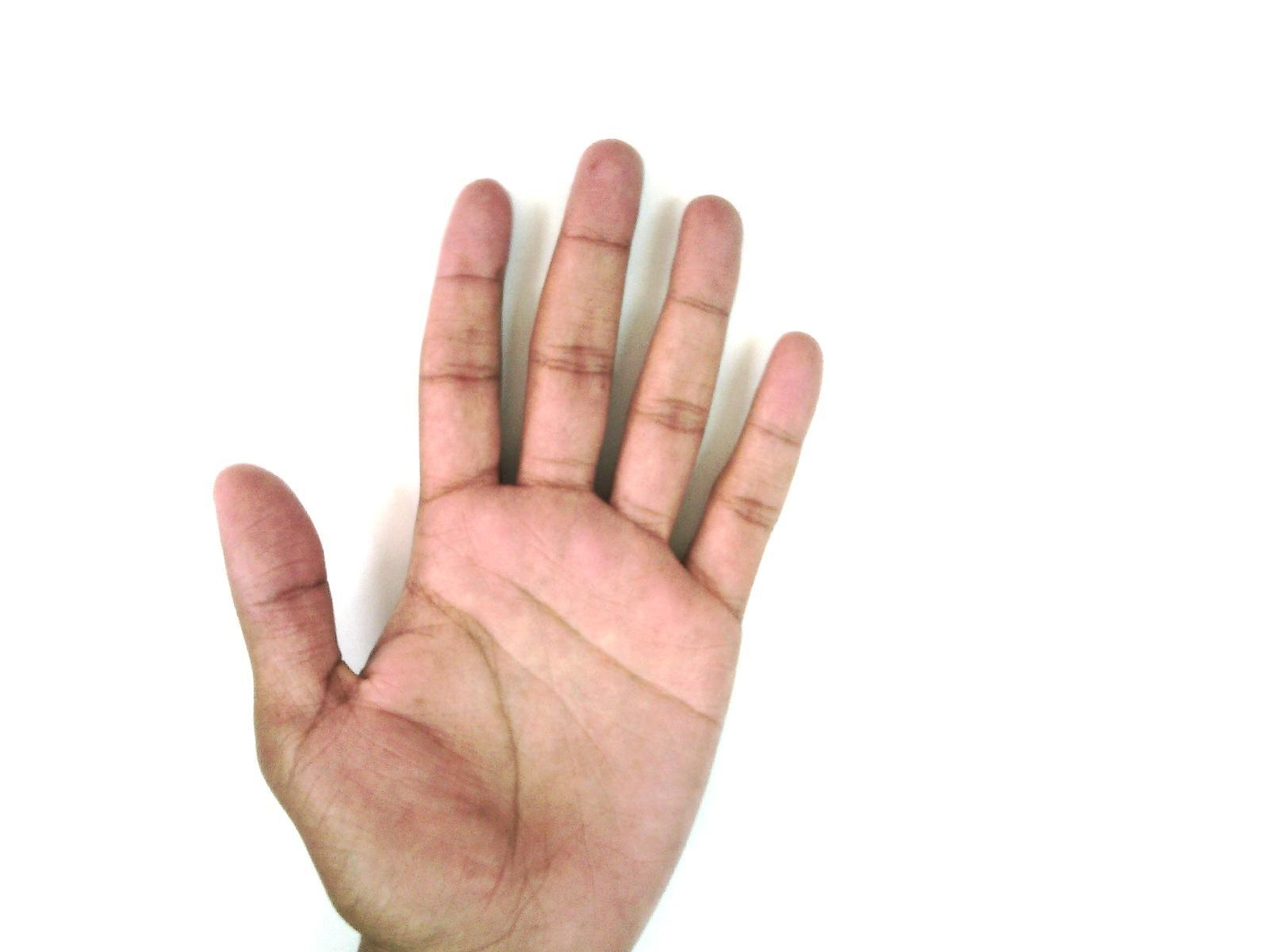open_palm: (211, 137, 827, 951)
